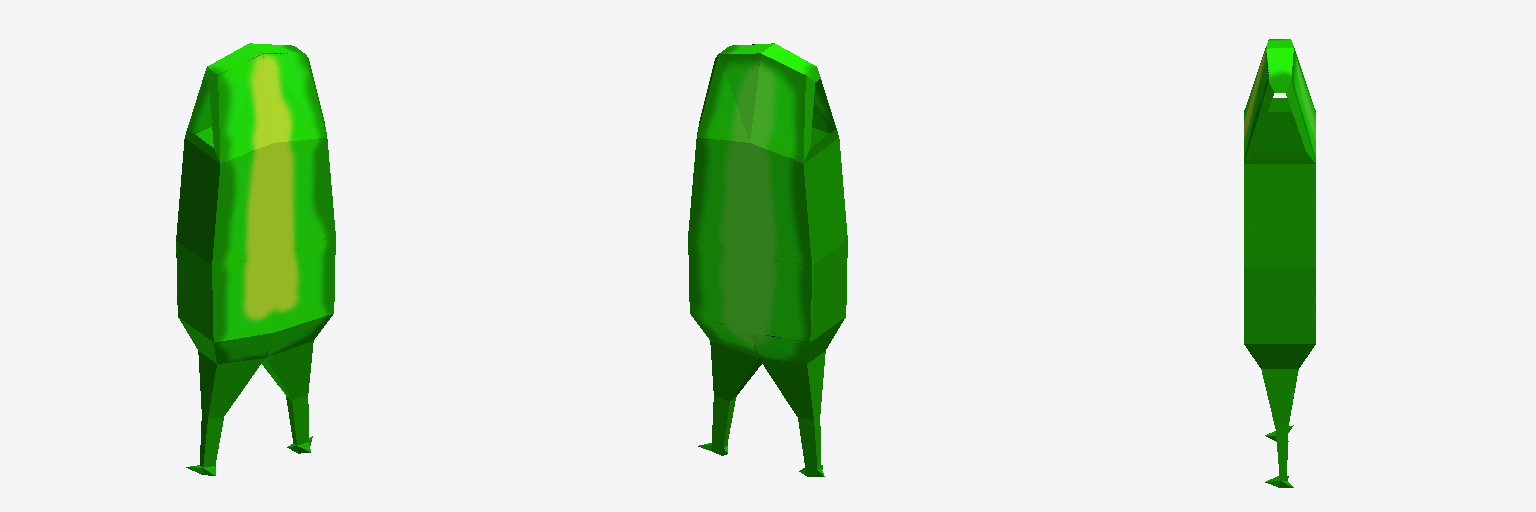
3 renders of one model, left to right at view 1: azimuth 30°, elevation 25°; view 2: azimuth 150°, elevation 25°; view 3: azimuth 270°, elevation 25°, orthographic.
Parts seen in each view (by area): view 1: Cuerpo_Cube.001; view 2: Cuerpo_Cube.001; view 3: Cuerpo_Cube.001.
Part boxes in pixels (x1,y1,x2,y2): Cuerpo_Cube.001: (176,43,335,475); Cuerpo_Cube.001: (688,43,847,476); Cuerpo_Cube.001: (1244,39,1315,487).
Bounding box in the file's own units: 0.7711 × 2.38 × 0.3735.
1 materials, 1 textured.